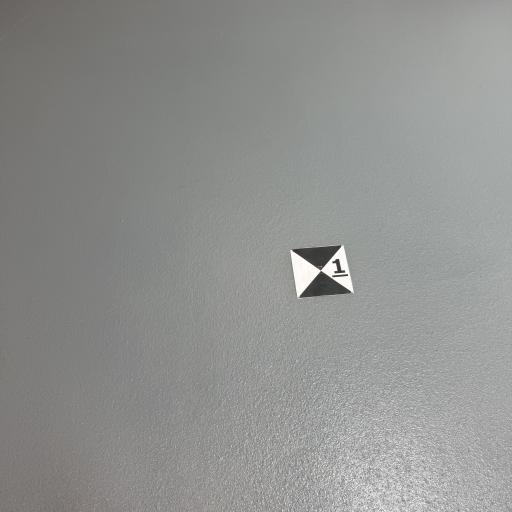target1: (287, 239, 357, 298)
